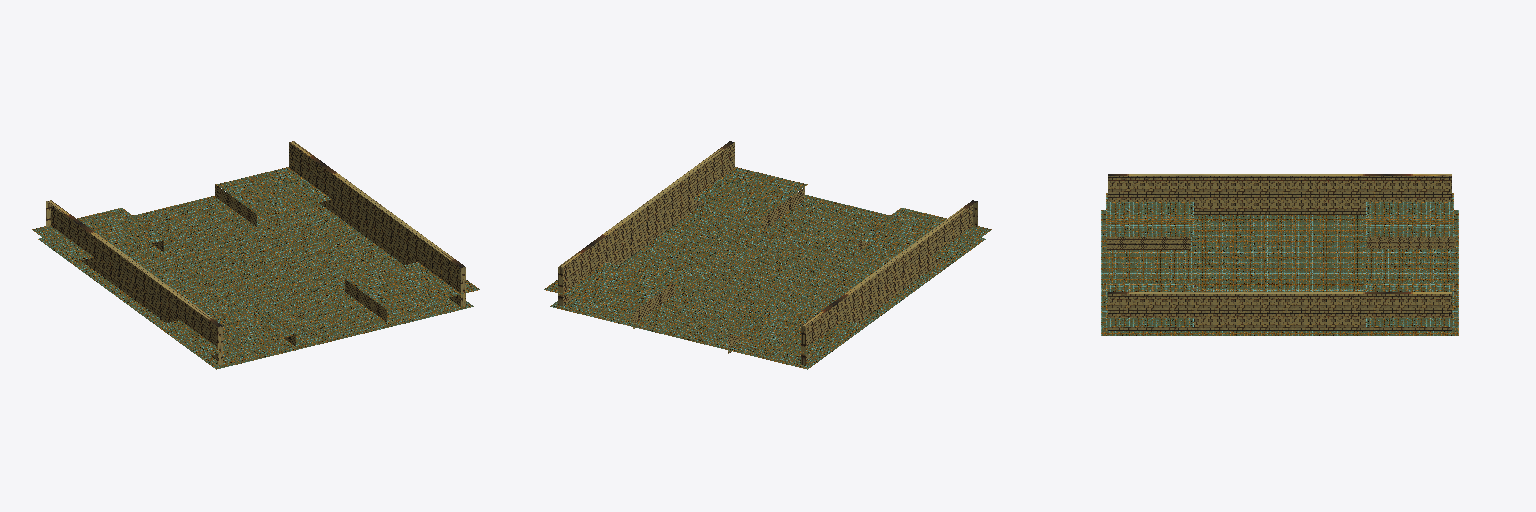
3 renders of one model, left to right at view 1: azimuth 30°, elevation 25°; view 2: azimuth 150°, elevation 25°; view 3: azimuth 270°, elevation 25°, orthographic.
Visible parts, largest first — view 1: terrain.003, Puente.003, terrain.001, Puente.004, Puente.005; view 2: terrain.003, Puente.003, terrain.001, Puente.005, Puente.004; view 3: Puente.003, terrain.003, terrain.001, Puente.002, Puente.006.
Boxes of the visible parts, x1=… form: terrain.003: x1=38, y1=196, x2=473, y2=369; Puente.003: x1=46, y1=141, x2=465, y2=365; terrain.001: x1=32, y1=167, x2=479, y2=356; Puente.004: x1=345, y1=279, x2=386, y2=321; Puente.005: x1=215, y1=184, x2=256, y2=226; terrain.003: x1=550, y1=195, x2=985, y2=369; Puente.003: x1=558, y1=141, x2=977, y2=365; terrain.001: x1=544, y1=167, x2=991, y2=356; Puente.005: x1=633, y1=282, x2=674, y2=328; Puente.004: x1=763, y1=187, x2=804, y2=229; Puente.003: x1=1108, y1=174, x2=1451, y2=330; terrain.003: x1=1101, y1=210, x2=1458, y2=335; terrain.001: x1=1106, y1=193, x2=1453, y2=326; Puente.002: x1=1107, y1=237, x2=1190, y2=249; Puente.006: x1=1367, y1=236, x2=1455, y2=248.
Size of the model in its own units: 2219 by 340 by 2498.
Materials: 6 (2 with a texture image).